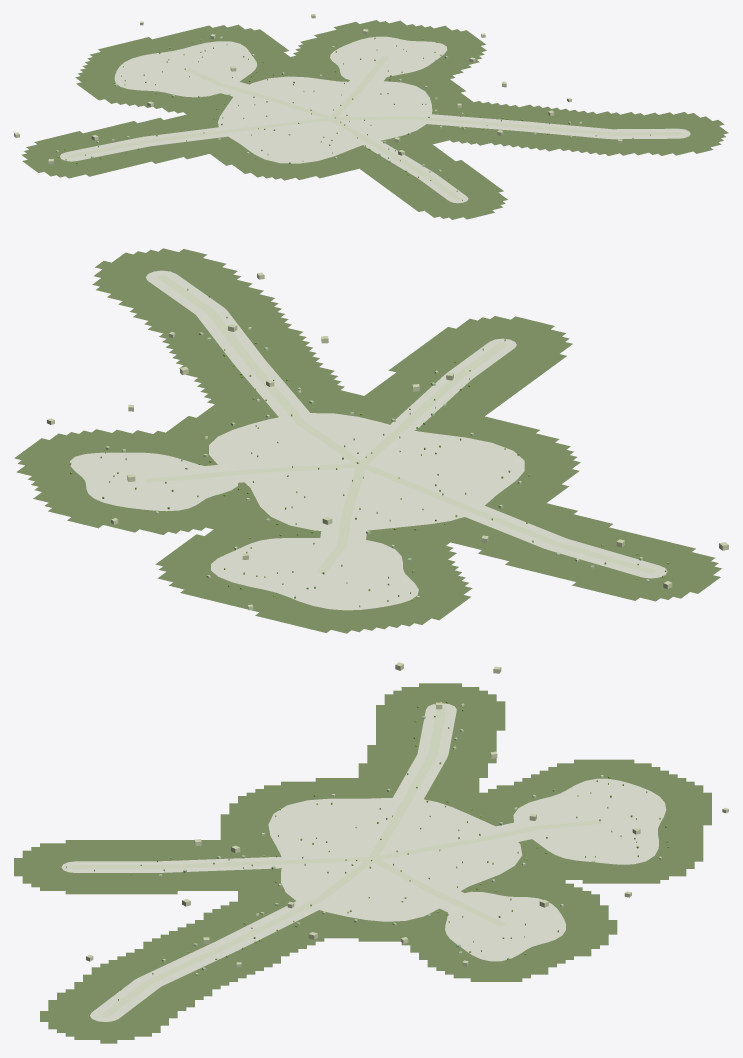
The model's file is pradera_norte.glb.
3 views of the same model, one above another, from view 1: azimuth 30°, elevation 25°; view 2: azimuth 150°, elevation 25°; view 3: azimuth 270°, elevation 25° (orthographic). The views are drawn at different scales.
Parts seen in each view (by area): view 1: AutoForest_PraderaNorte, CentroMeadow, NorteMeadow, NoresteMeadow, EsteMeadow, OesteMeadow, EstePath, SurMeadow, OestePath, SurPath, NorteLinkMeadow, NortePath (+2 smaller); view 2: AutoForest_PraderaNorte, CentroMeadow, NorteMeadow, NoresteMeadow, EsteMeadow, OesteMeadow, EstePath, SurMeadow, OestePath, SurPath, NortePath, NoresteLinkMeadow (+2 smaller); view 3: AutoForest_PraderaNorte, CentroMeadow, NorteMeadow, NoresteMeadow, EsteMeadow, OesteMeadow, EstePath, SurMeadow, OestePath, SurPath, NortePath, NorestePath (+2 smaller).
Part boxes in pixels (box(x1,y1,x2,y2)): AutoForest_PraderaNorte: box(21, 20, 728, 219); CentroMeadow: box(218, 76, 432, 163); NorteMeadow: box(114, 41, 257, 97); NoresteMeadow: box(330, 36, 447, 80); EsteMeadow: box(403, 113, 690, 139); OesteMeadow: box(60, 127, 233, 161); EstePath: box(331, 116, 682, 135); SurMeadow: box(363, 139, 468, 203); OestePath: box(68, 118, 332, 157); SurPath: box(328, 117, 461, 200); NorteLinkMeadow: box(206, 78, 274, 103); NortePath: box(185, 68, 330, 119); AutoForest_PraderaNorte: box(14, 248, 721, 633); CentroMeadow: box(209, 413, 524, 531); NorteMeadow: box(211, 538, 418, 610); NoresteMeadow: box(70, 452, 238, 511); EsteMeadow: box(146, 270, 315, 427); OesteMeadow: box(455, 502, 667, 578); EstePath: box(157, 275, 360, 463); SurMeadow: box(390, 338, 516, 432); OestePath: box(363, 464, 655, 573); SurPath: box(357, 342, 507, 466); NortePath: box(317, 464, 365, 573); NoresteLinkMeadow: box(175, 462, 280, 485); AutoForest_PraderaNorte: box(14, 683, 711, 1043); CentroMeadow: box(268, 797, 522, 921); NorteMeadow: box(513, 778, 666, 864); NoresteMeadow: box(445, 891, 565, 961); EsteMeadow: box(90, 893, 329, 1022); OesteMeadow: box(391, 703, 456, 804); EstePath: box(100, 859, 375, 1017); SurMeadow: box(61, 857, 290, 872); OestePath: box(369, 707, 445, 859); SurPath: box(70, 857, 376, 868); NortePath: box(371, 820, 600, 860); NorestePath: box(373, 860, 506, 926).
Size of what is drawn, in the model's own units: 198 by 5.72 by 166.
